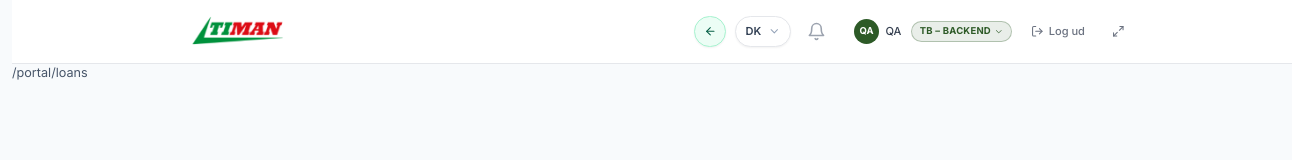
Loans header for timan_backend › Back from /portal/loans uses parent, not home or unrelated history
Step 1. Click the button named "Forrige" → (710, 32), box [694,16,726,47]
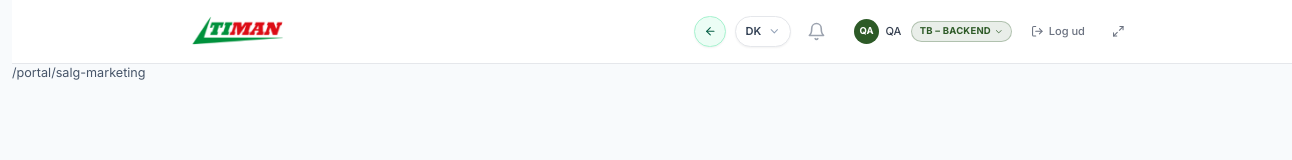
Result: the text with test id "location" reads "/portal/salg-marketing" at [12,65,146,80]
